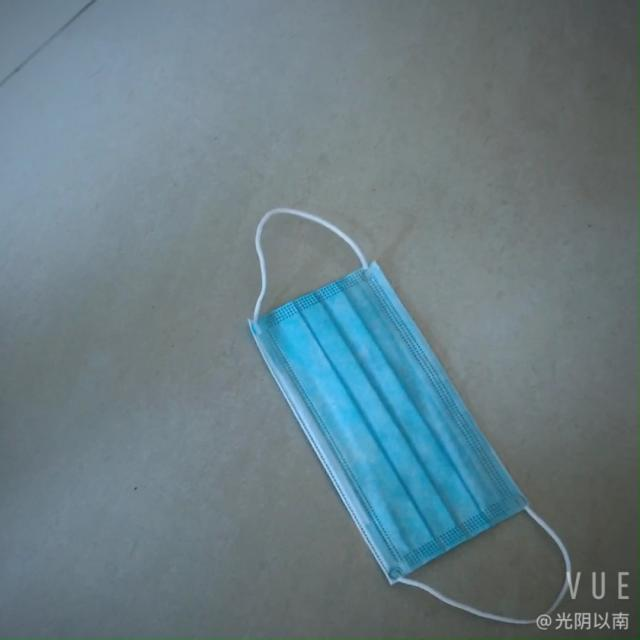non-organic waste: (246, 253, 532, 581)
